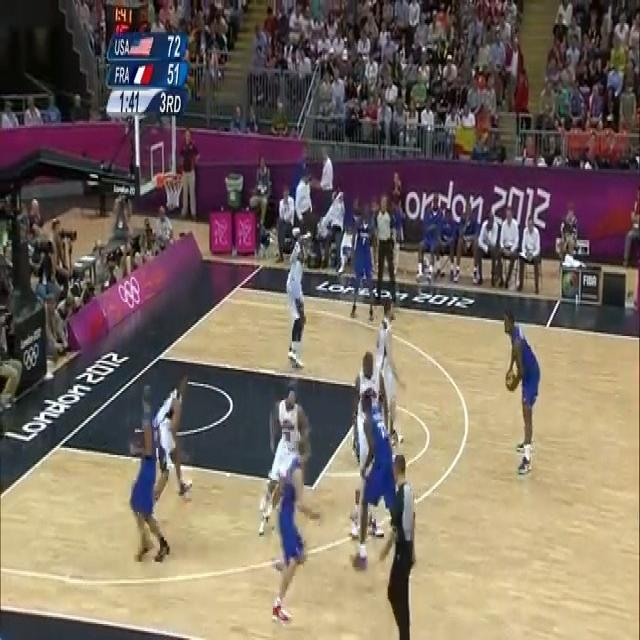basketball: (506, 366, 518, 390)
hoop: (161, 171, 184, 210)
person: (262, 379, 310, 623), (501, 309, 540, 479), (158, 376, 194, 498), (375, 196, 397, 293)
